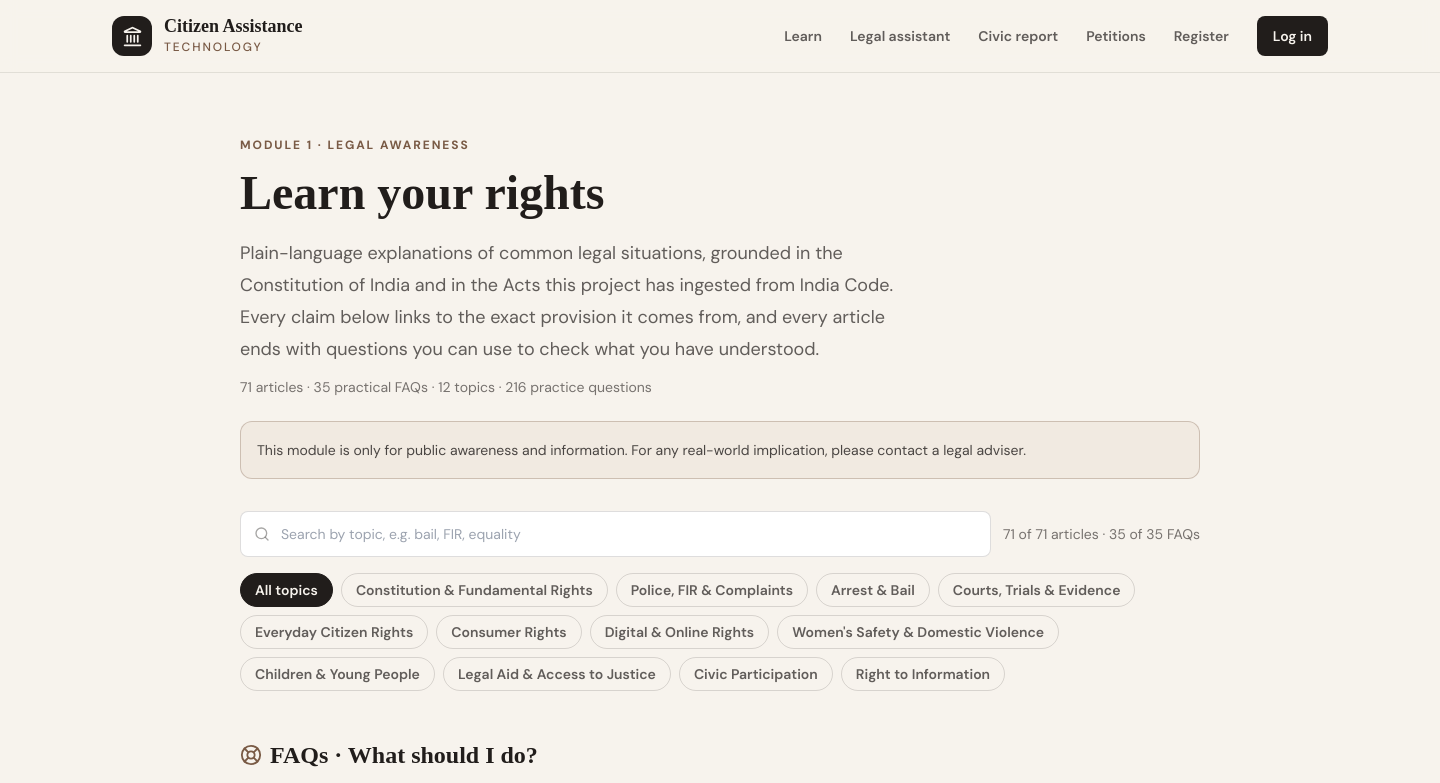
Test: LearnPage › shows an empty state when nothing matches, and can clear it
In the search field named "Search learning articles": (616, 534) [240, 511, 991, 557], type "zzzzz no such topic"
(page scrolled)
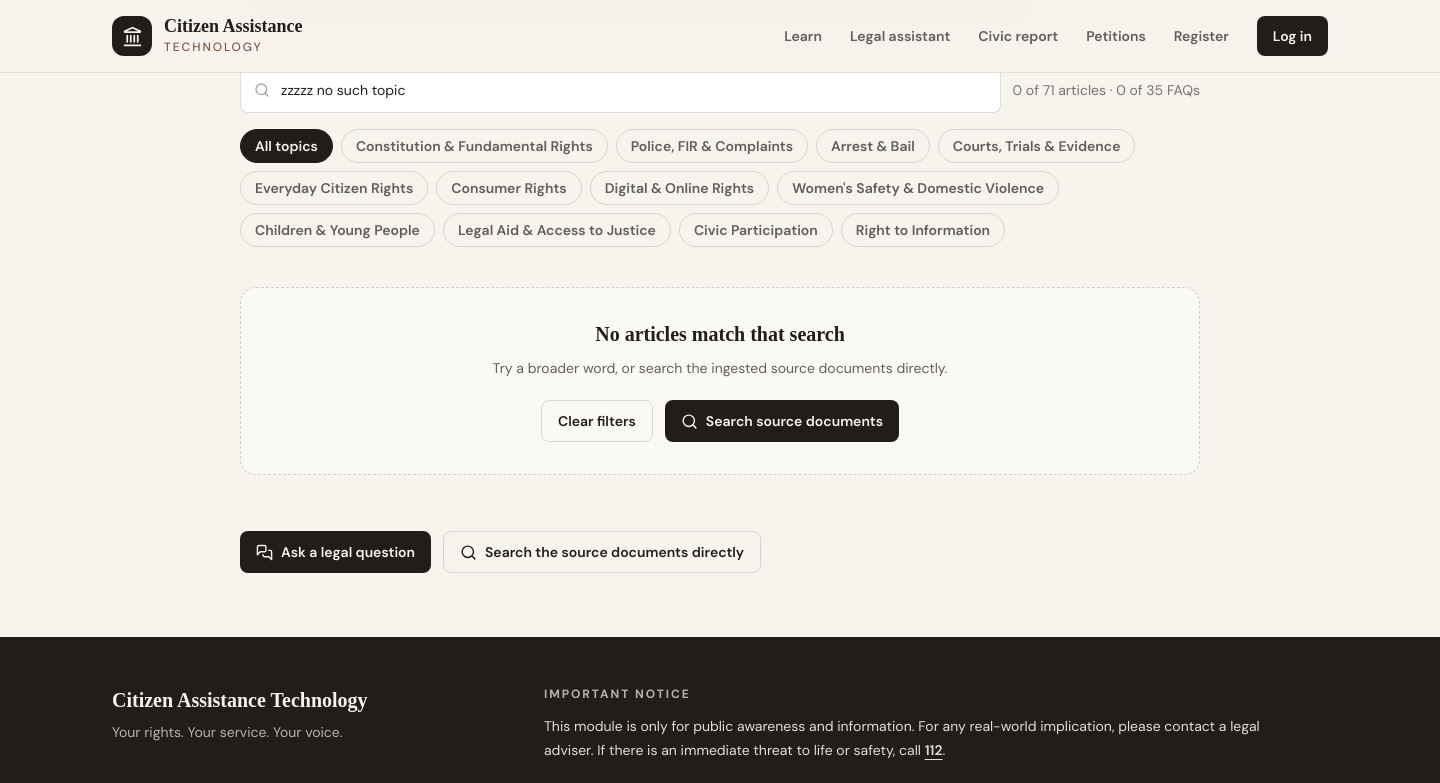
Result: the text "No articles match that search" is shown at [595, 323, 845, 345]
Click the button "Clear filters": (597, 421) [541, 400, 653, 442]
(page scrolled)
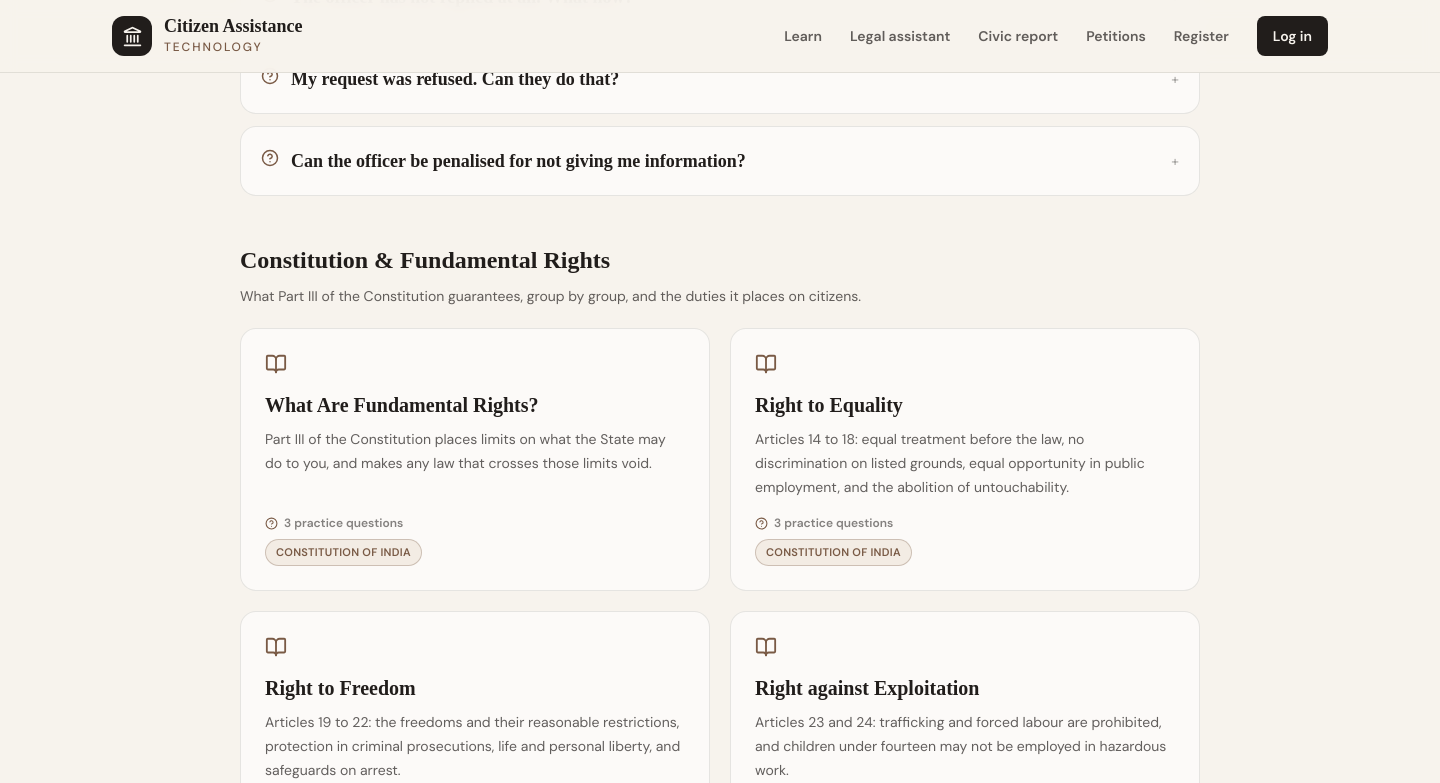
Result: the text "No articles match that search" is gone
Result: the heading "Right to Equality" is shown at [755, 394, 903, 416]
